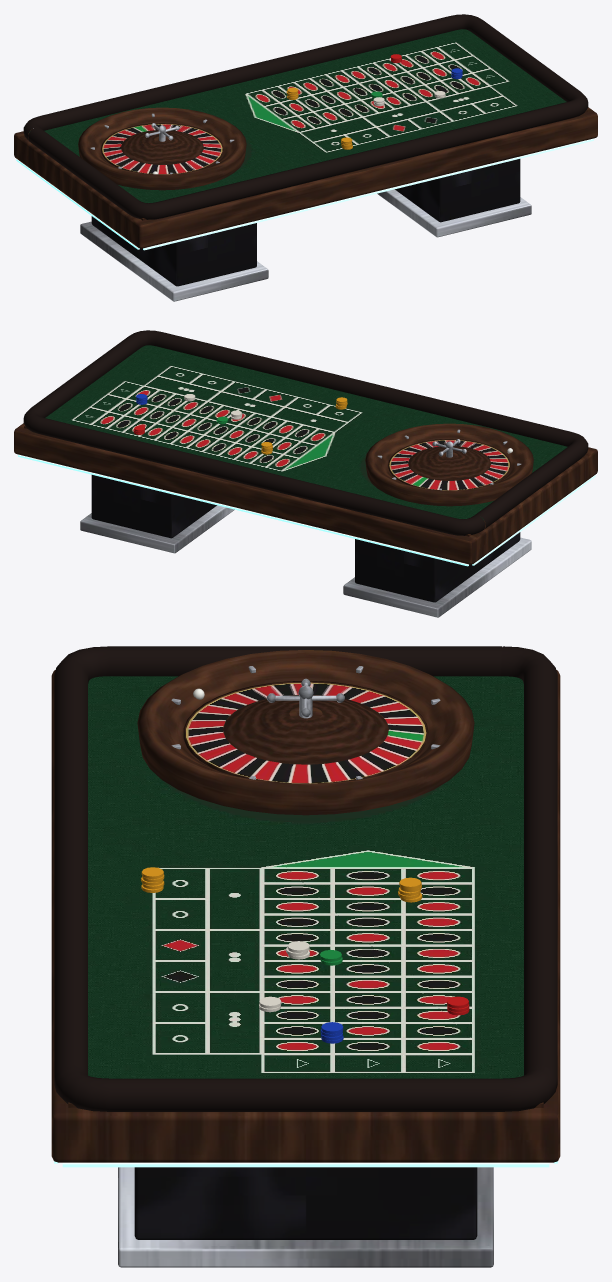
Rendered from prop_rouletteTable.glb.
3 renders of one model, top to bottom at view 1: azimuth 30°, elevation 25°; view 2: azimuth 150°, elevation 25°; view 3: azimuth 270°, elevation 25°, orthographic. The views are drawn at different scales.
Visible parts, largest first — view 1: prop (×2); view 2: prop (×2); view 3: prop (×2).
Boxes of the visible parts, left/top/right/bottom form: prop (×2): left=14, top=14, right=597, bottom=301; prop (×2): left=14, top=330, right=597, bottom=617; prop (×2): left=51, top=646, right=560, bottom=1267.
Size of what is drawn, in the model's own units: 1.92 by 0.534 by 0.92.
11 materials, 8 textured.
